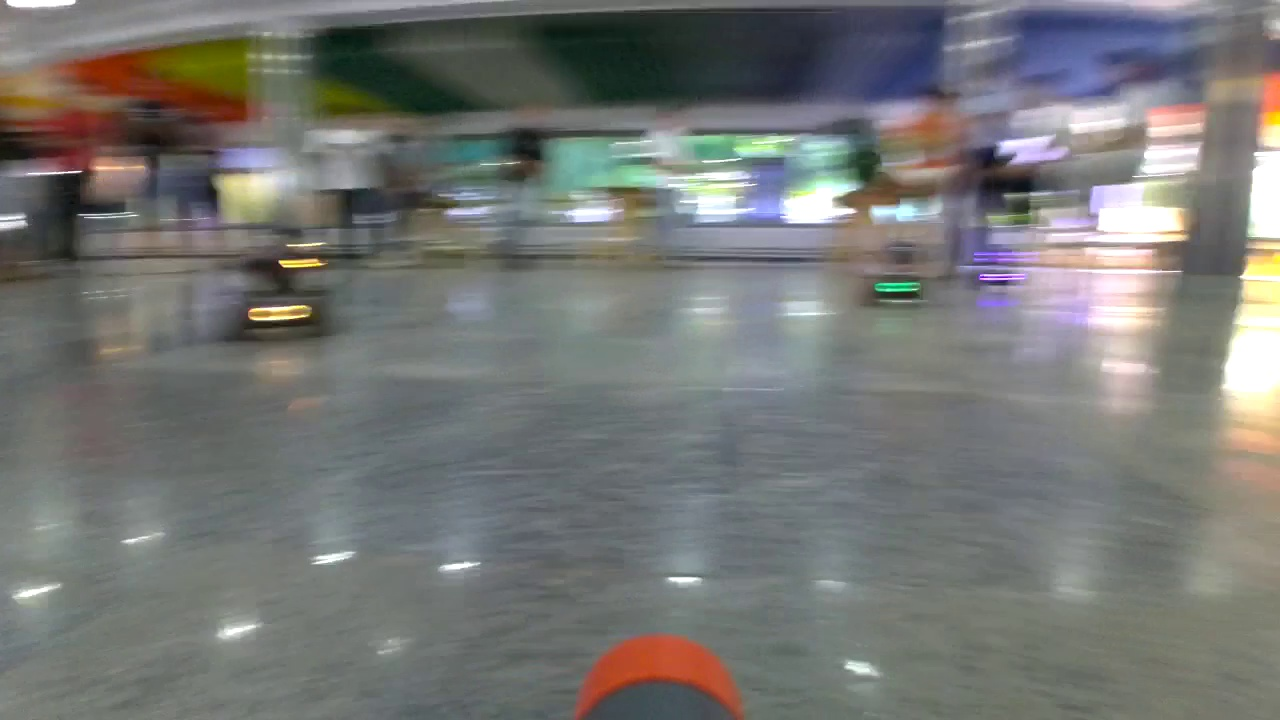robot: (240, 245, 331, 337), (863, 241, 928, 306), (966, 244, 1028, 289)
